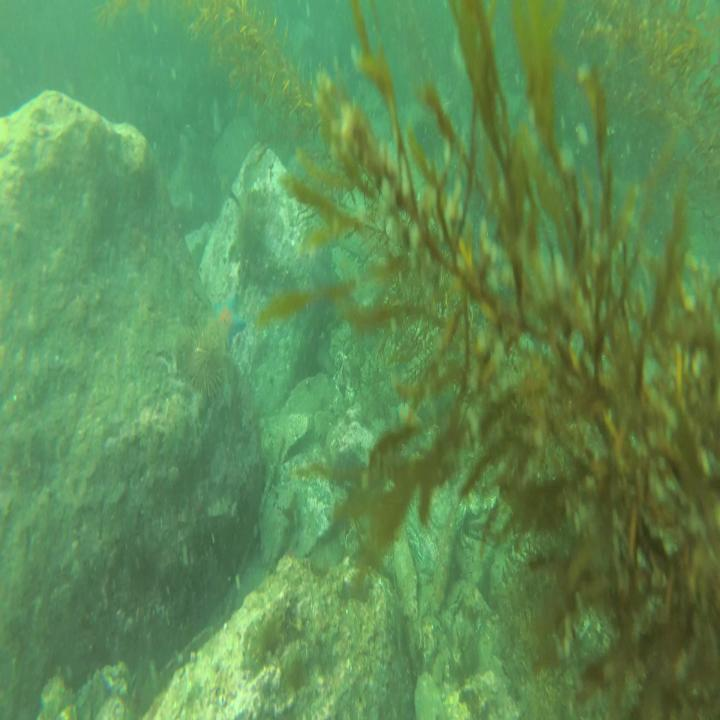echinus: (185, 320, 228, 398)
starfish: (207, 289, 246, 357)
